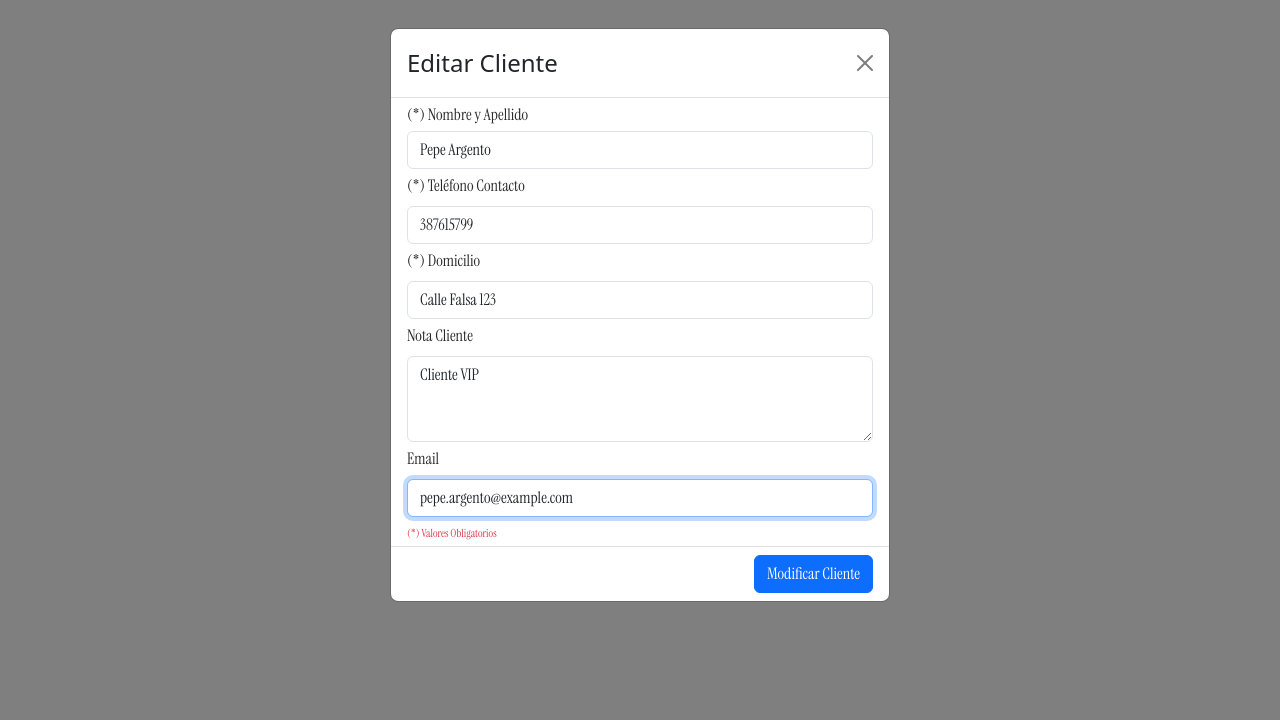
Test: ModalEditClient › El botón Editar Cliente se deshabilita si se borran los campos obligatorios
The width and height of the screenshot is (1280, 720).
Expected: the button "Modificar Cliente" is enabled, [754,555,873,593]
Clear the field labelled "(*) Nombre y Apellido" at point(640, 150), box [407,131,873,169]
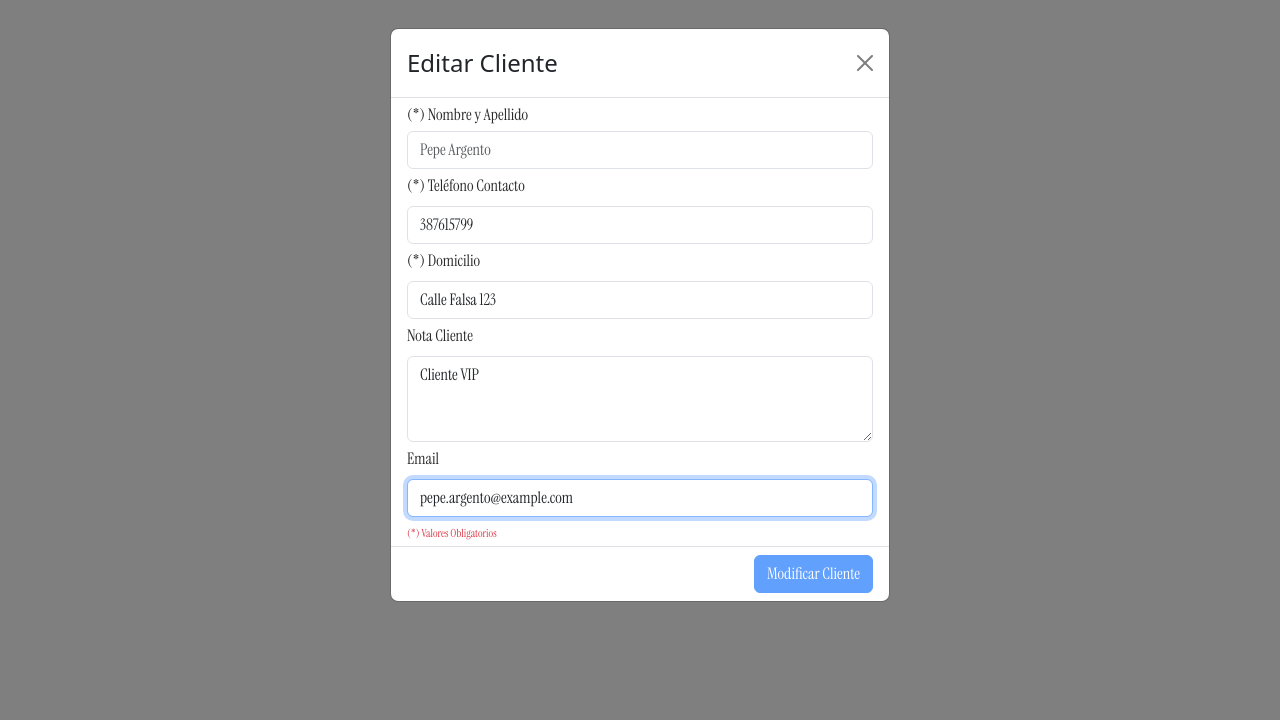
Expected: the button "Modificar Cliente" is disabled, [754,555,873,593]
